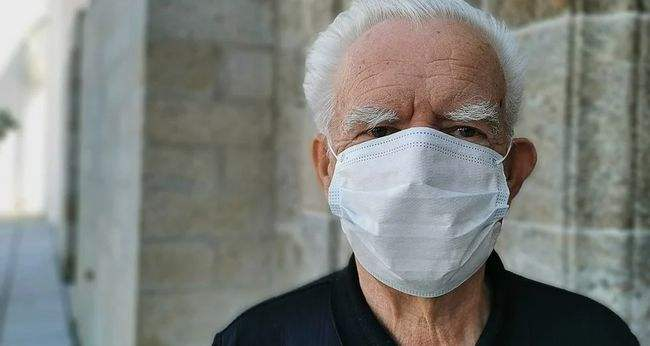mask: (341, 36, 507, 295)
